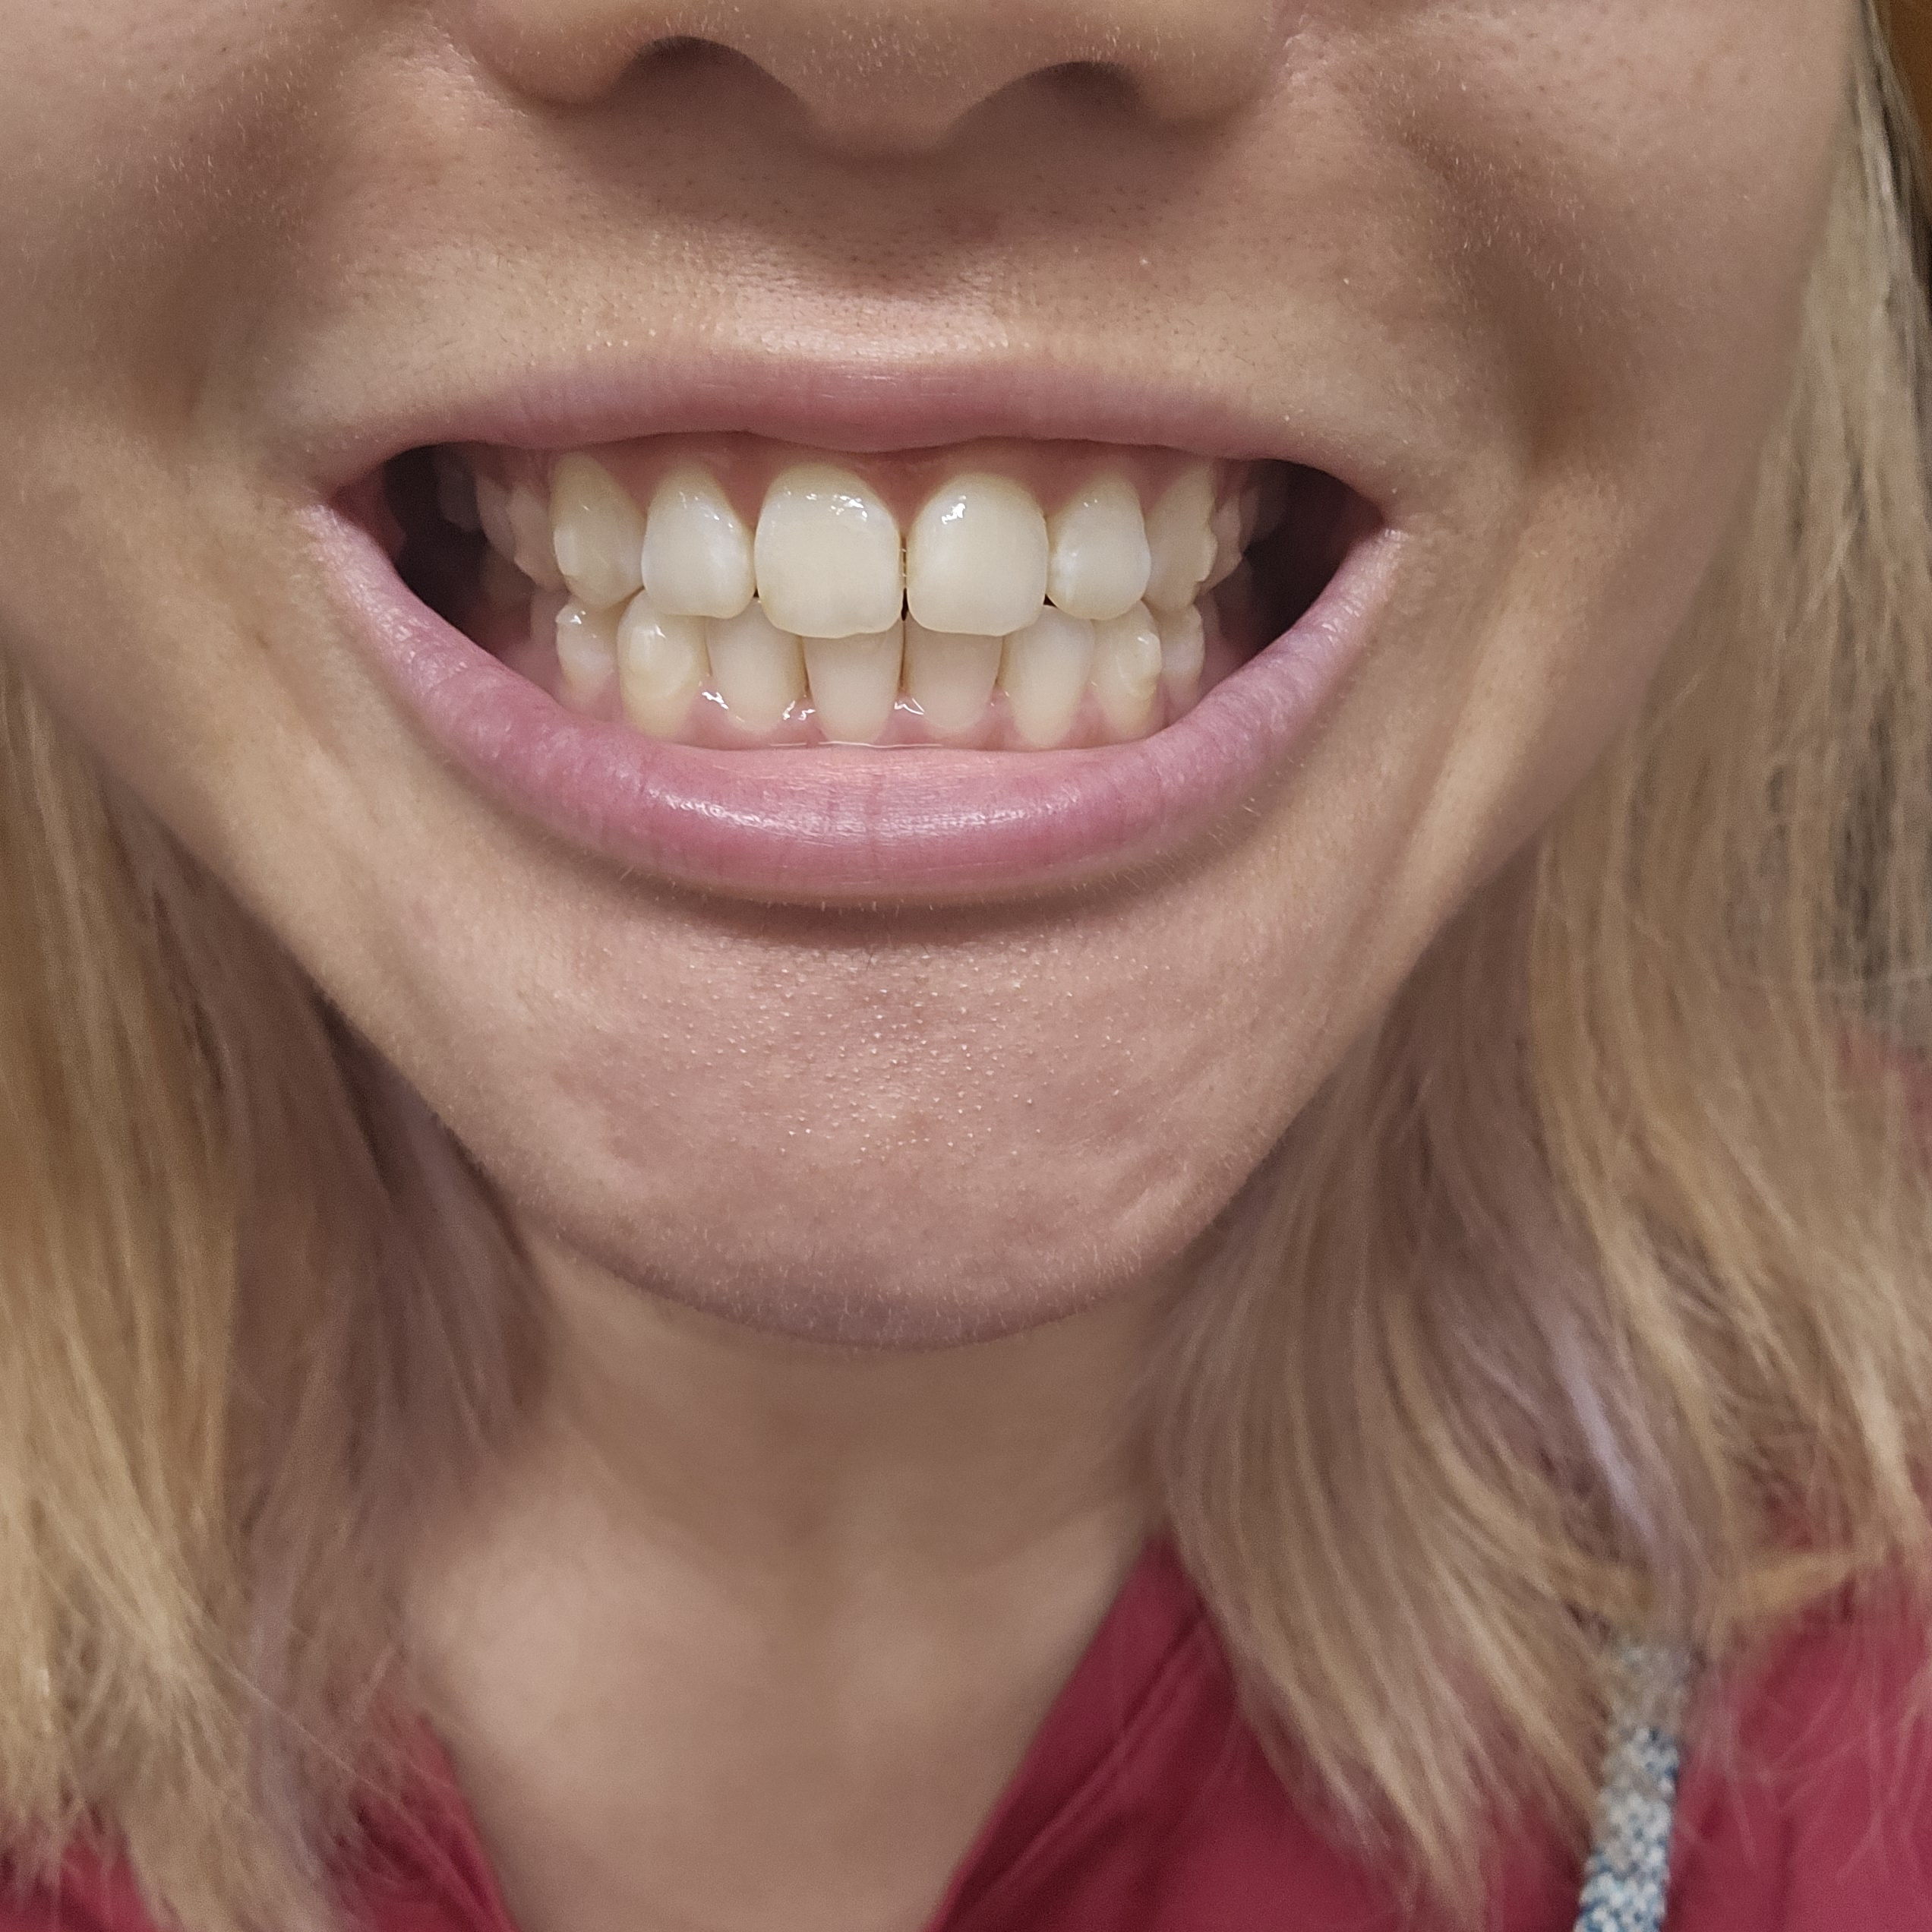teeth: (766, 474, 892, 623), (908, 481, 1033, 619), (644, 467, 745, 605), (547, 478, 628, 609), (706, 605, 791, 724), (1146, 469, 1215, 612), (807, 644, 895, 745), (619, 607, 683, 743), (1063, 488, 1134, 603), (1104, 600, 1161, 738), (1017, 630, 1088, 731), (915, 639, 994, 717)
